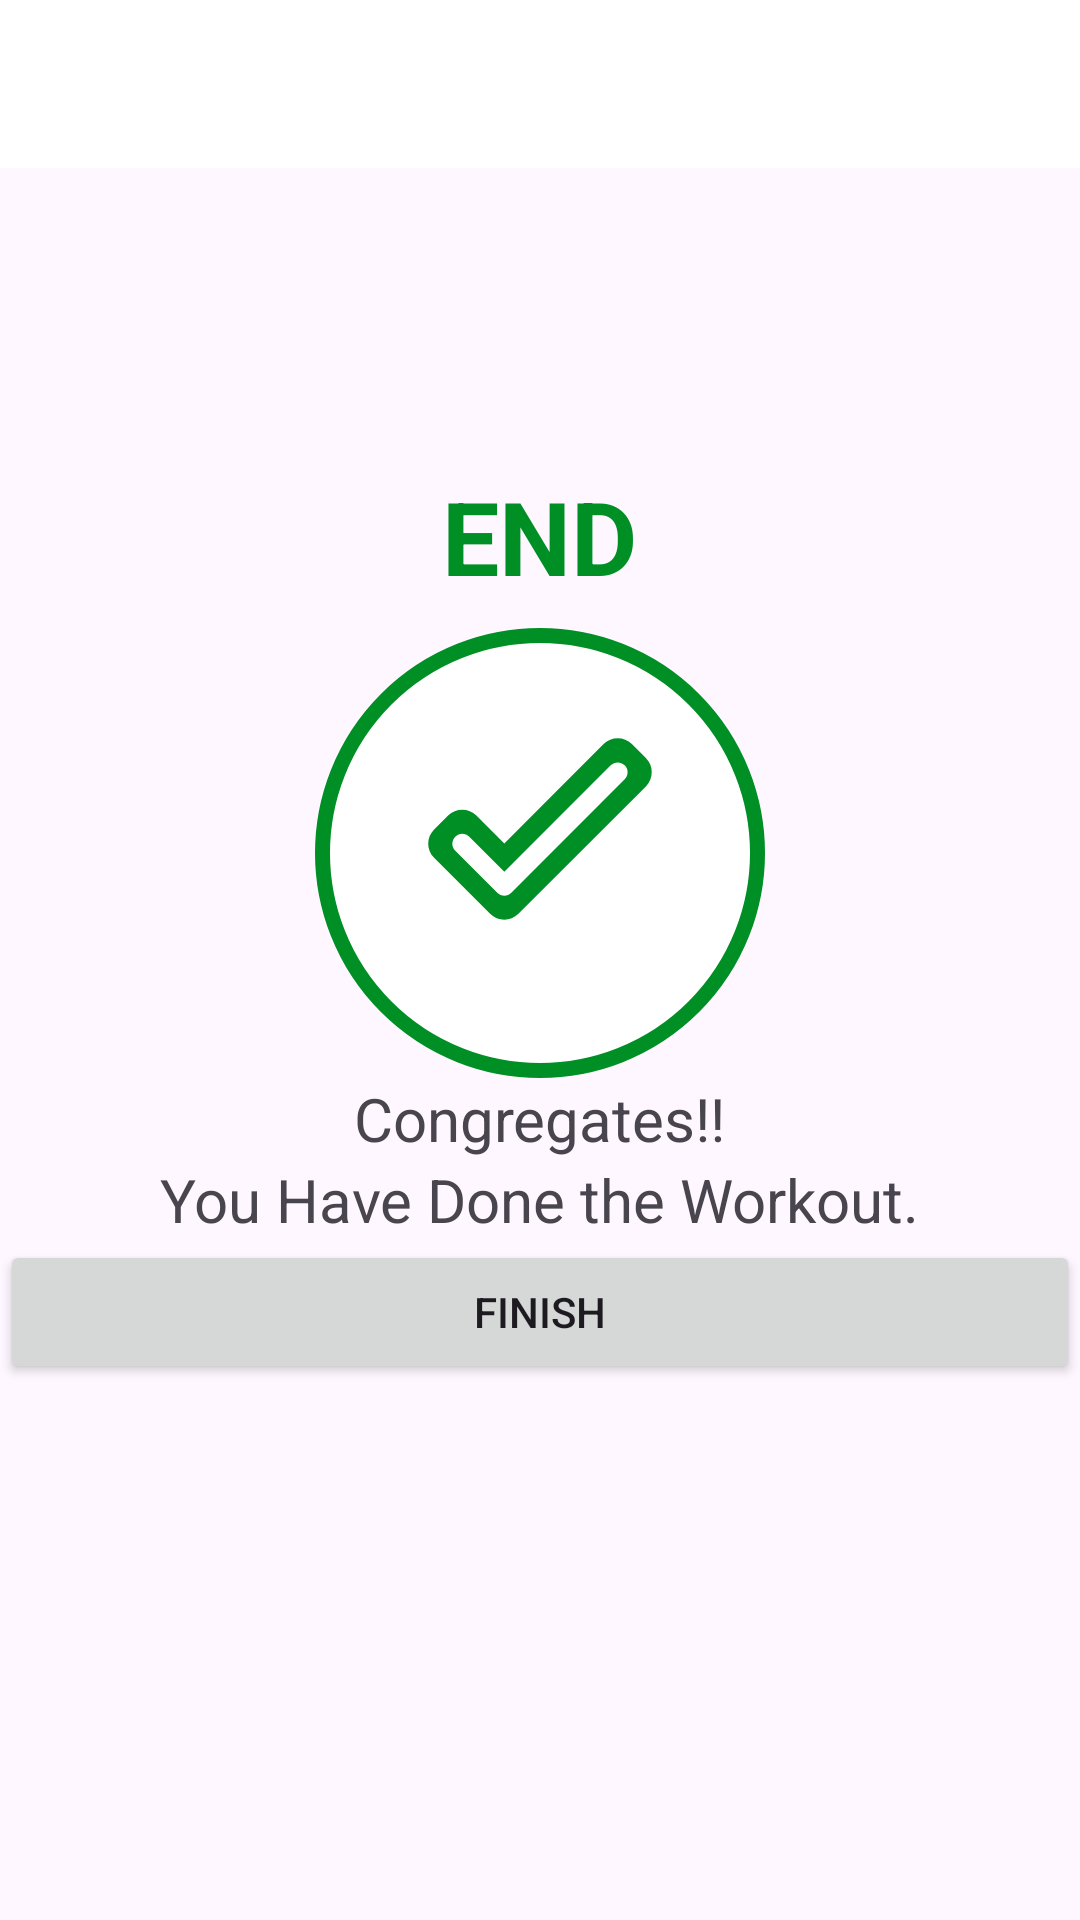

Screen size 1080 x 1920. Icon name, then its center in pixels as [x,y]:
done: [540,829]
